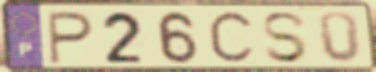0: (316, 10, 363, 66)
2: (101, 8, 151, 68)
6: (155, 10, 202, 67)
C: (205, 9, 257, 69)
P: (46, 10, 96, 67)
S: (259, 11, 311, 66)
